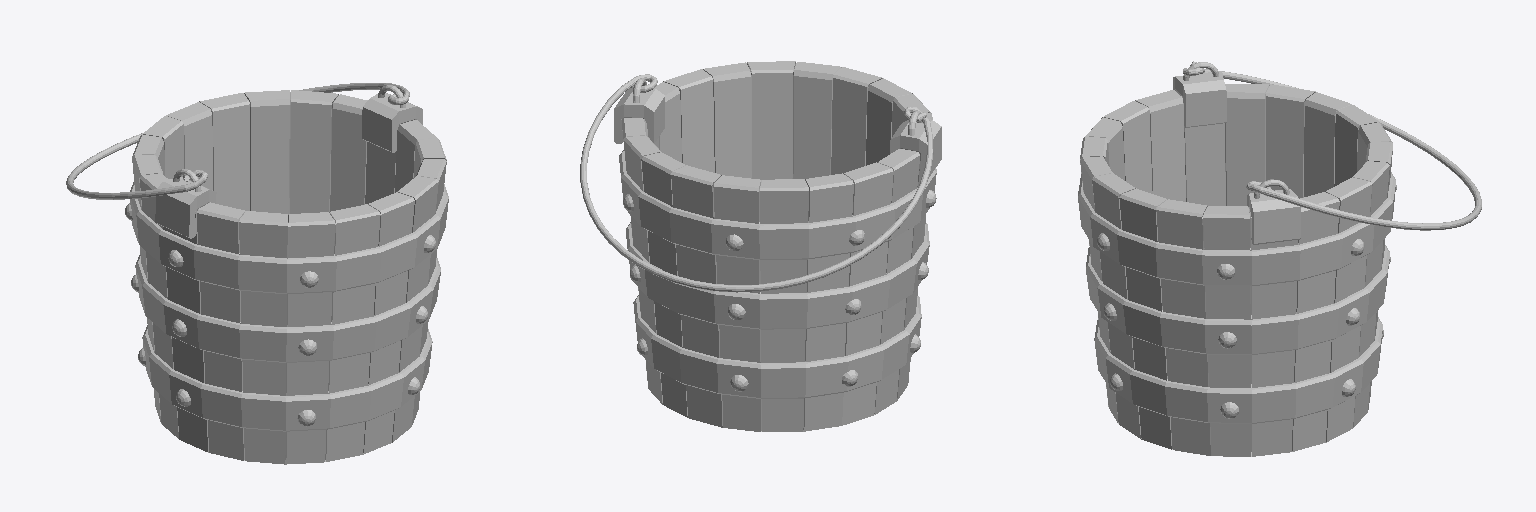
The model's file is bucket.obj.
The picture shows the model from 3 angles: view 1: azimuth 30°, elevation 25°; view 2: azimuth 150°, elevation 25°; view 3: azimuth 270°, elevation 25°; orthographic projection.
Visible parts, largest first — view 1: pTorus5; view 2: pTorus5; view 3: pTorus5.
Part boxes in pixels (x1,y1,x2,y2): pTorus5: (66, 83, 448, 464); pTorus5: (580, 61, 941, 431); pTorus5: (1078, 61, 1481, 456).
Bounding box in the file's own units: 2.02 × 1.77 × 2.29.